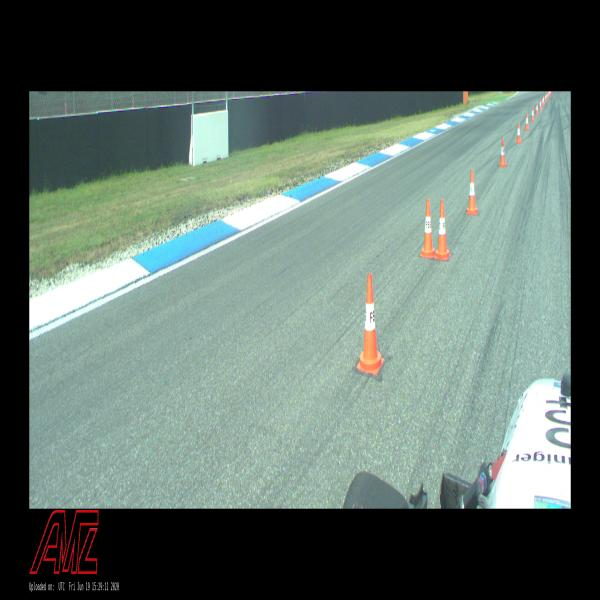orange_cone: (356, 274, 384, 374), (435, 199, 451, 261), (420, 199, 435, 257), (467, 170, 478, 215), (499, 138, 507, 167), (515, 122, 522, 144), (524, 113, 530, 130), (530, 107, 534, 121), (539, 99, 542, 110), (536, 103, 538, 114), (542, 98, 544, 107), (543, 95, 545, 104), (546, 92, 548, 100), (545, 94, 547, 101), (548, 92, 549, 98)
